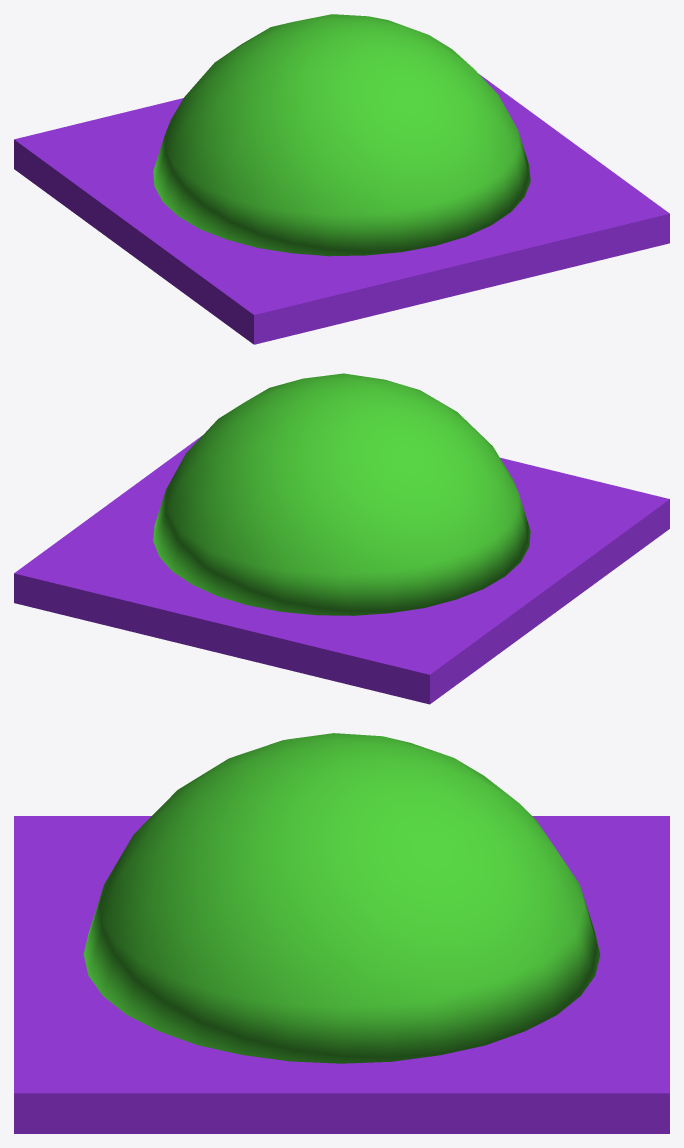
File: jumpBox.dae
The picture shows the model from 3 angles, top to bottom: view 1: azimuth 30°, elevation 25°; view 2: azimuth 150°, elevation 25°; view 3: azimuth 270°, elevation 25°; orthographic projection. The views are drawn at different scales.
Visible parts, largest first — view 1: jumpBox; view 2: jumpBox; view 3: jumpBox.
Part boxes in pixels (x1,y1,x2,y2): jumpBox: (14, 14, 669, 344); jumpBox: (14, 373, 669, 704); jumpBox: (14, 733, 669, 1133).
Bounding box in the file's own units: 2 × 2 × 0.8.
